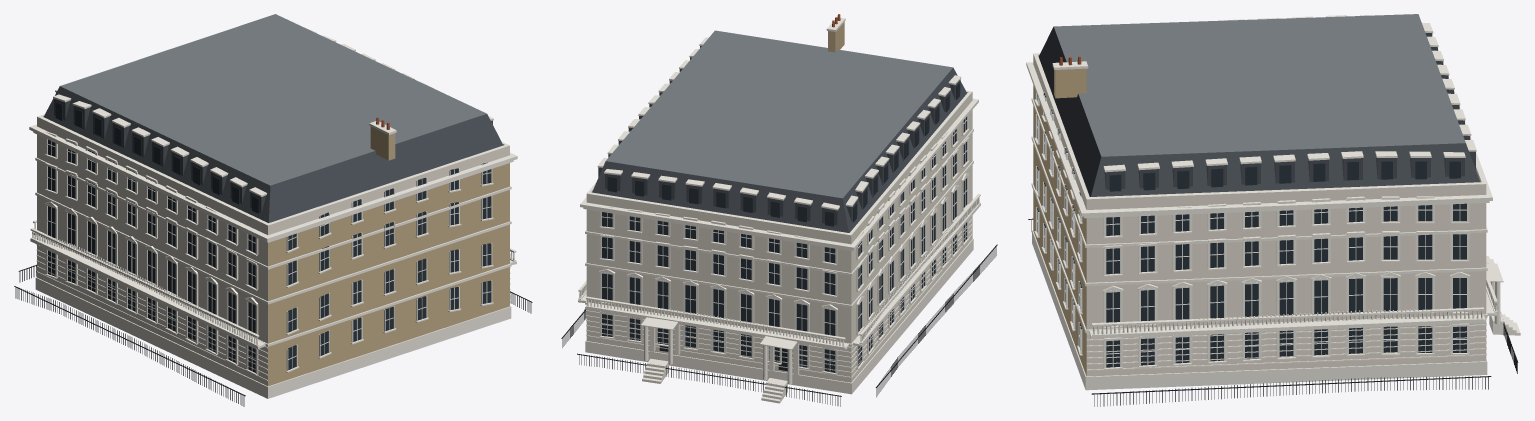
The model's file is cheval_hyde_park_gate.glb.
3 views of the same model, side by side, from view 1: azimuth 30°, elevation 25°; view 2: azimuth 150°, elevation 25°; view 3: azimuth 270°, elevation 25° (orthographic). The views are drawn at different scales.
Size of the model in its own units: 35.22 by 22.98 by 37.4.
